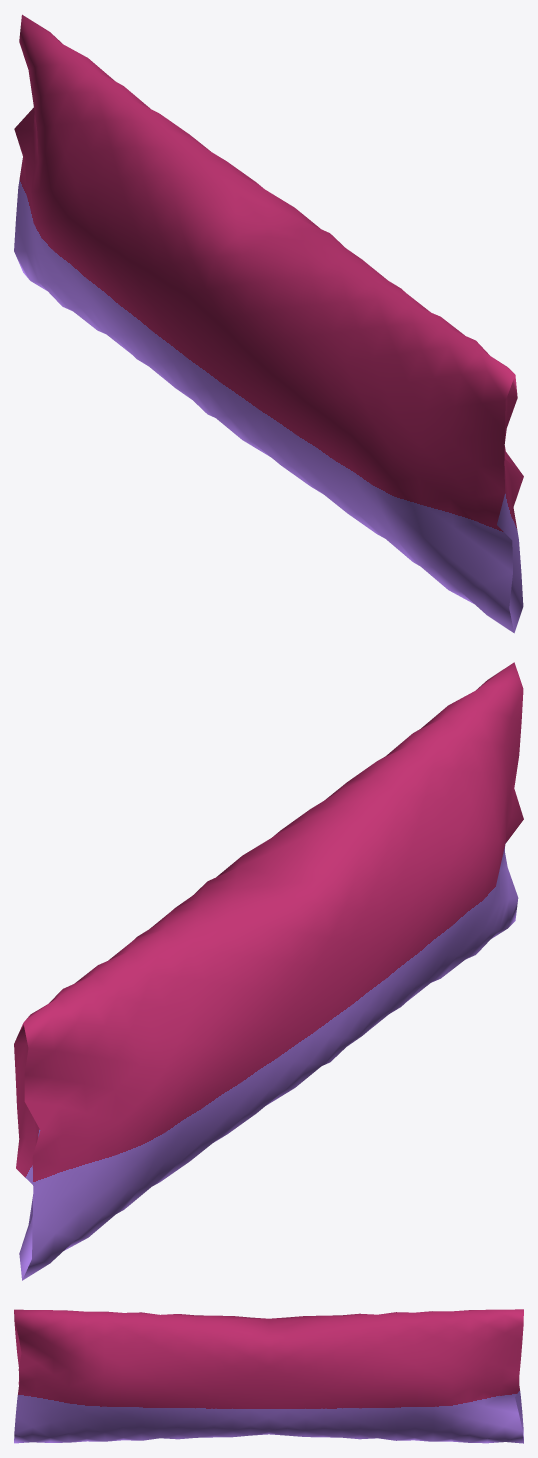
File: masitas.001.fbx
The picture shows the model from 3 angles, top to bottom: view 1: azimuth 30°, elevation 25°; view 2: azimuth 150°, elevation 25°; view 3: azimuth 270°, elevation 25°; orthographic projection. The views are drawn at different scales.
Parts seen in each view (by area): view 1: masitas.001; view 2: masitas.001; view 3: masitas.001.
Part boxes in pixels (<box>): masitas.001: <box>14,14,523,633</box>; masitas.001: <box>14,662,523,1280</box>; masitas.001: <box>14,1309,523,1443</box>.
Size of the model in its own units: 60.93 by 115 by 397.
